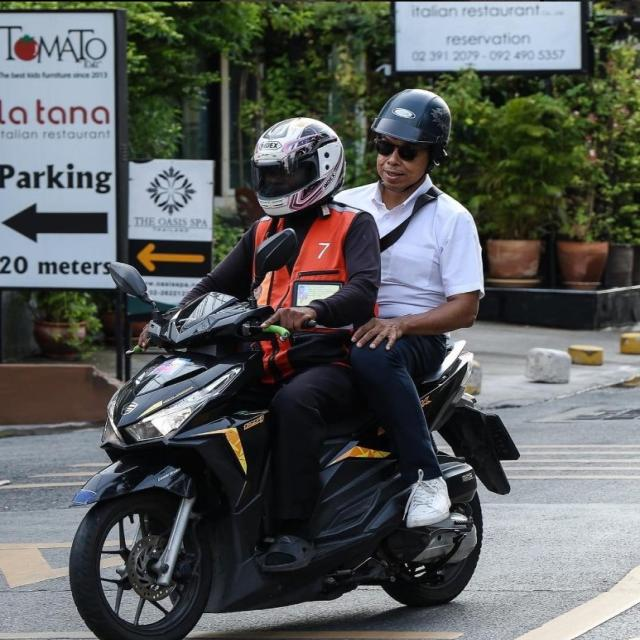helmet: (246, 114, 350, 222), (368, 85, 454, 193)
